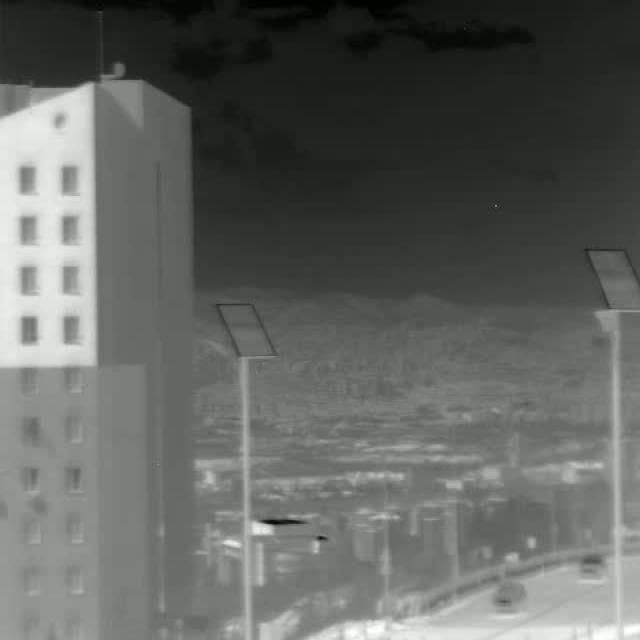Car: (491, 578, 529, 618), (578, 552, 608, 584)
